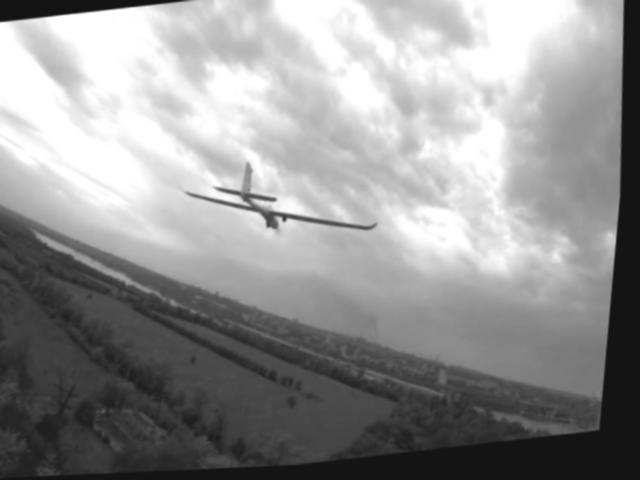hedef: (157, 138, 393, 278)
